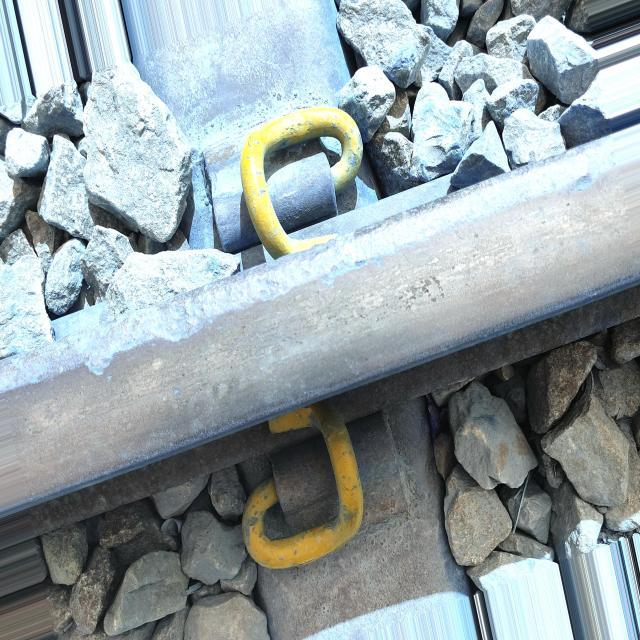Good Fasteners: (229, 401, 423, 591), (185, 90, 376, 276)
